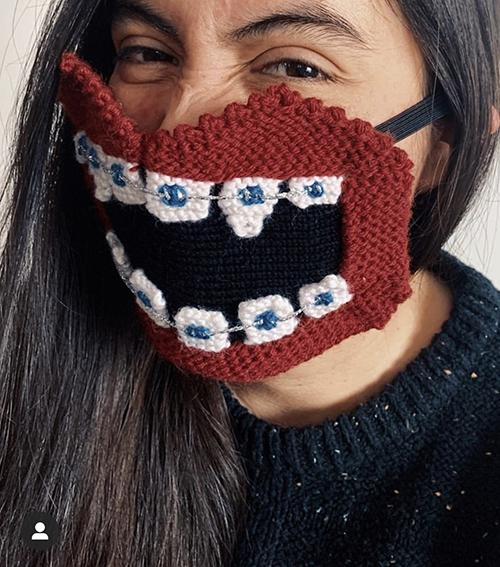WRONG: (96, 11, 406, 357)
